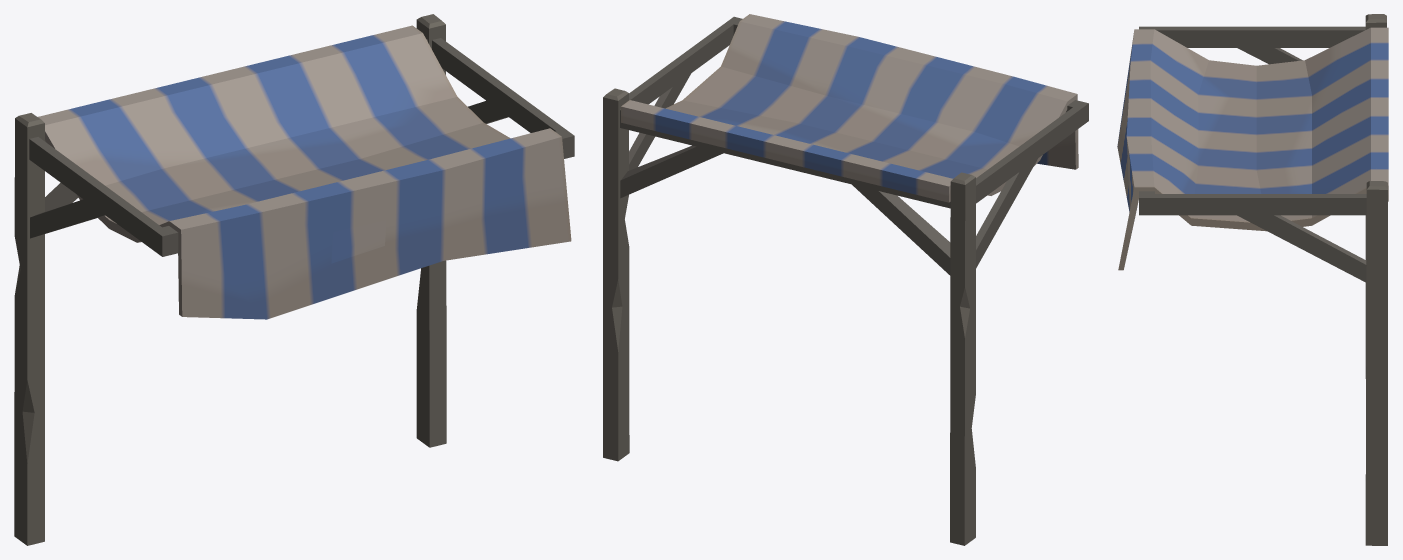
Rendered from SM_Bld_Village_ClothCover_01.fbx.
3 renders of one model, left to right at view 1: azimuth 30°, elevation 25°; view 2: azimuth 150°, elevation 25°; view 3: azimuth 270°, elevation 25°, orthographic. The views are drawn at different scales.
Parts seen in each view (by area): view 1: SM_Bld_Village_ClothCover_01; view 2: SM_Bld_Village_ClothCover_01; view 3: SM_Bld_Village_ClothCover_01.
Boxes of the visible parts, x1,y1,x2,y2 form: SM_Bld_Village_ClothCover_01: (14,14,574,545); SM_Bld_Village_ClothCover_01: (603,14,1088,545); SM_Bld_Village_ClothCover_01: (1117,14,1388,545).
Bounding box in the file's own units: 363 × 349 × 239.
